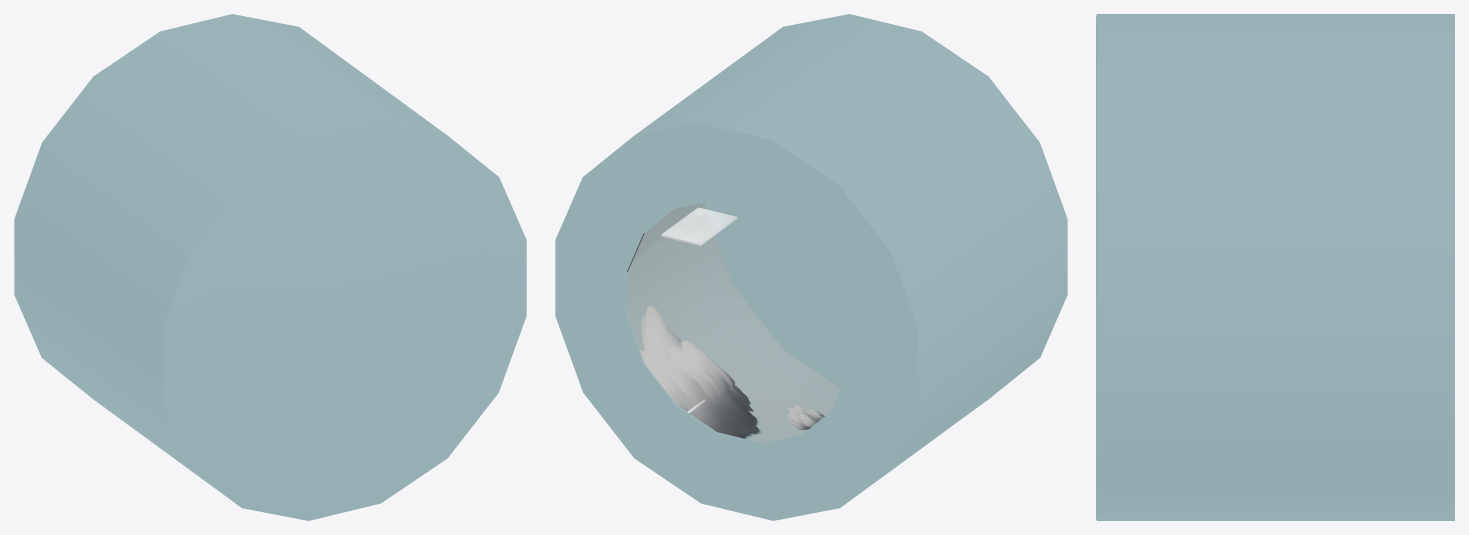
File: cylinderMazeOuter.glb
3 views of the same model, side by side, from view 1: azimuth 30°, elevation 25°; view 2: azimuth 150°, elevation 25°; view 3: azimuth 270°, elevation 25° (orthographic). The views are drawn at different scales.
Visible parts, largest first — view 1: cylinderOuter; view 2: cylinderOuter; view 3: cylinderOuter.
Boxes of the visible parts, <box> form: cylinderOuter: <box>14,14,526,520</box>; cylinderOuter: <box>555,14,1067,520</box>; cylinderOuter: <box>1096,14,1454,520</box>.
Size of what is drawn, in the model's own units: 22.09 by 22.09 by 15.75.
Materials: 3 (2 with a texture image).
